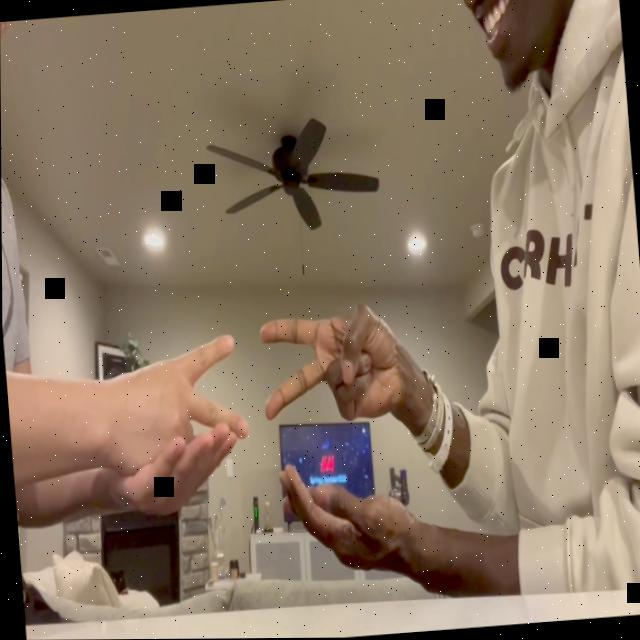Scissors: (104, 332, 250, 487), (255, 298, 401, 441)
